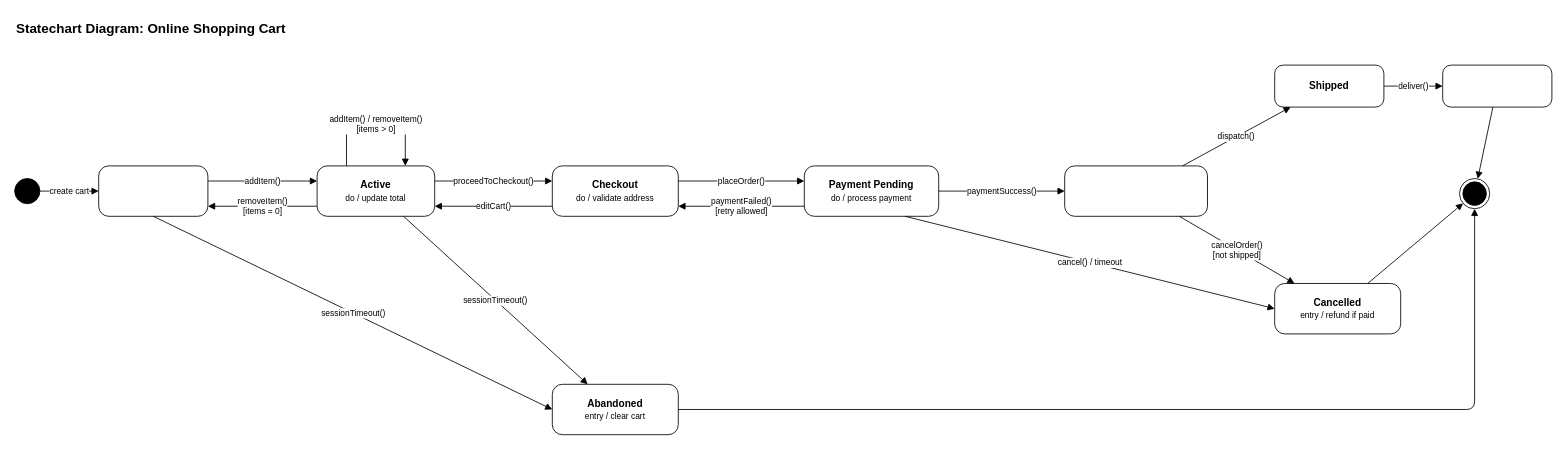
Some shapes in this 1567 by 449 pixel diagram are drawn without their labels. Each missing label, with the centre of its shape:
"Delivered" belongs at point (1497, 85).
"Empty entry / items = 0" belongs at point (153, 190).
"Order Placed entry / send confirmation" belongs at point (1136, 190).
